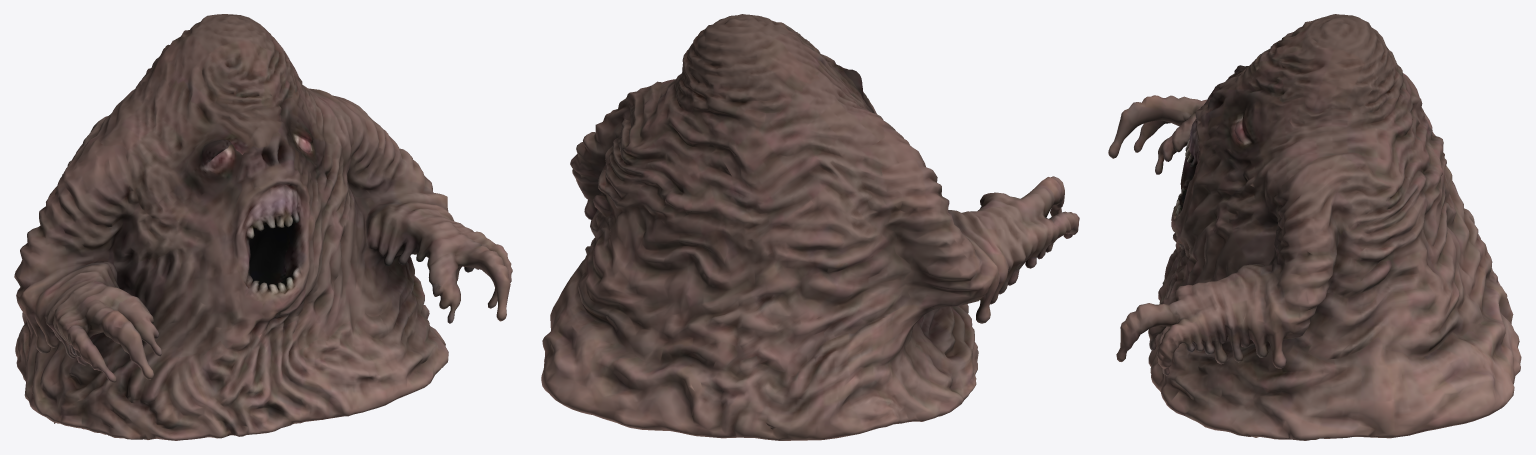
The model's file is MZ4250 - Lemure_1 2025.glb.
3 renders of one model, left to right at view 1: azimuth 30°, elevation 25°; view 2: azimuth 150°, elevation 25°; view 3: azimuth 270°, elevation 25°, orthographic. The views are drawn at different scales.
Visible parts, largest first — view 1: ORGANIC BASE SPHERE.001; view 2: ORGANIC BASE SPHERE.001; view 3: ORGANIC BASE SPHERE.001.
Boxes of the visible parts, bbox=[...] form: ORGANIC BASE SPHERE.001: bbox=[14, 14, 512, 440]; ORGANIC BASE SPHERE.001: bbox=[541, 14, 1079, 440]; ORGANIC BASE SPHERE.001: bbox=[1108, 14, 1521, 440].
Size of the model in its own units: 60.53 by 45.62 by 49.9.
1 material, 1 textured.
